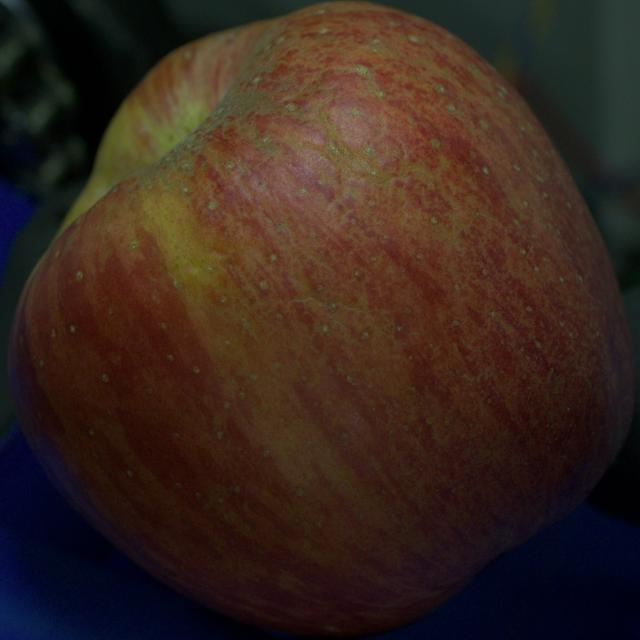apple: (8, 2, 634, 635)
